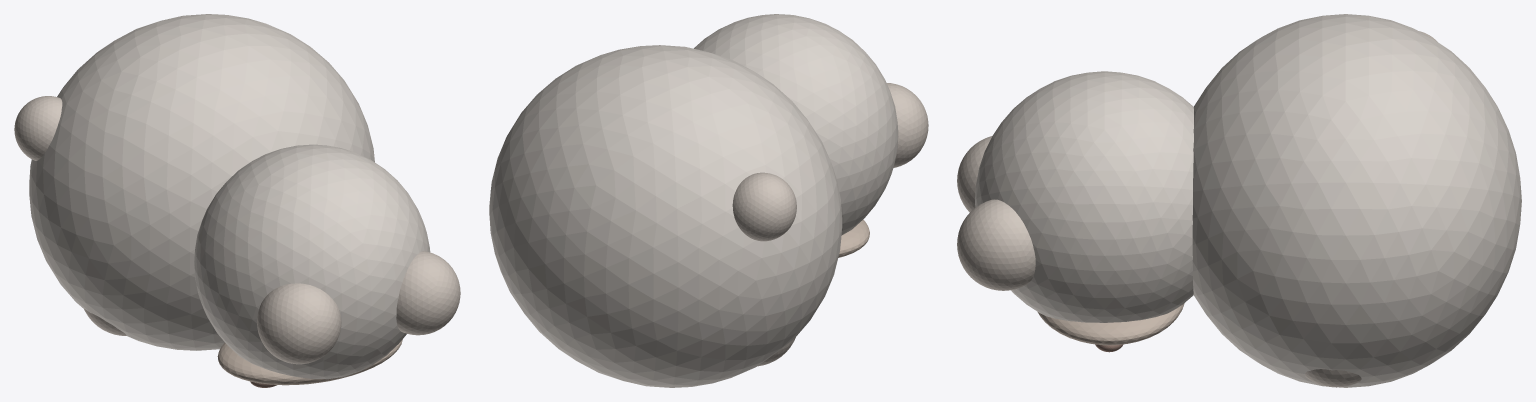
Rendered from soup.glb.
3 views of the same model, side by side, from view 1: azimuth 30°, elevation 25°; view 2: azimuth 150°, elevation 25°; view 3: azimuth 270°, elevation 25° (orthographic). The views are drawn at different scales.
Parts seen in each view (by area): view 1: world; view 2: world; view 3: world.
Part boxes in pixels (left/top/right/bottom): world: left=14, top=14, right=460, bottom=387; world: left=489, top=14, right=928, bottom=387; world: left=957, top=14, right=1521, bottom=387.
Size of the model in its own units: 84 by 80 by 122.
